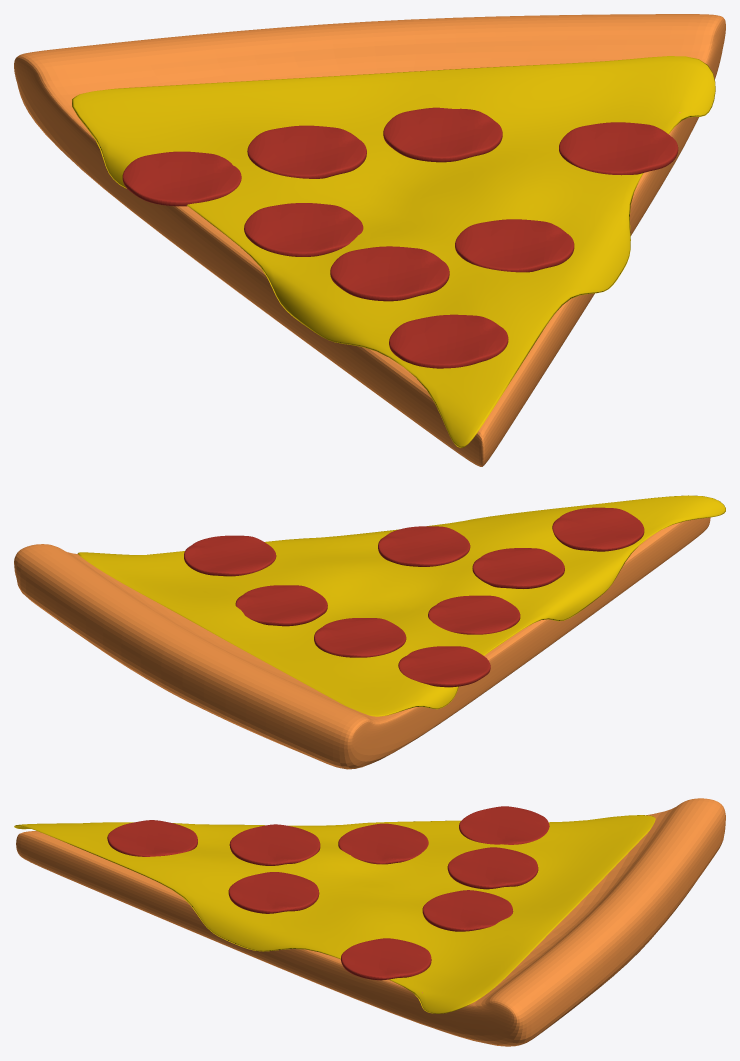
File: pizzaPart.fbx
3 views of the same model, one above another, from view 1: azimuth 30°, elevation 25°; view 2: azimuth 150°, elevation 25°; view 3: azimuth 270°, elevation 25° (orthographic). The views are drawn at different scales.
Visible parts, largest first — view 1: Cylinder.002, Cylinder.001, Circle.036; view 2: Cylinder.002, Cylinder.001, Circle.036; view 3: Cylinder.002, Cylinder.001, Circle.036.
Part boxes in pixels (left/top/right/bottom): Cylinder.002: left=72, top=56, right=715, bottom=447; Cylinder.001: left=14, top=14, right=725, bottom=466; Circle.036: left=122, top=107, right=678, bottom=368; Cylinder.002: left=77, top=495, right=725, bottom=716; Cylinder.001: left=14, top=517, right=710, bottom=769; Circle.036: left=184, top=507, right=644, bottom=687; Cylinder.002: left=14, top=815, right=655, bottom=1013; Cylinder.001: left=16, top=798, right=725, bottom=1046; Circle.036: left=107, top=806, right=549, bottom=980.
Bounding box in the file's own units: 72.9 × 10.13 × 98.91.
